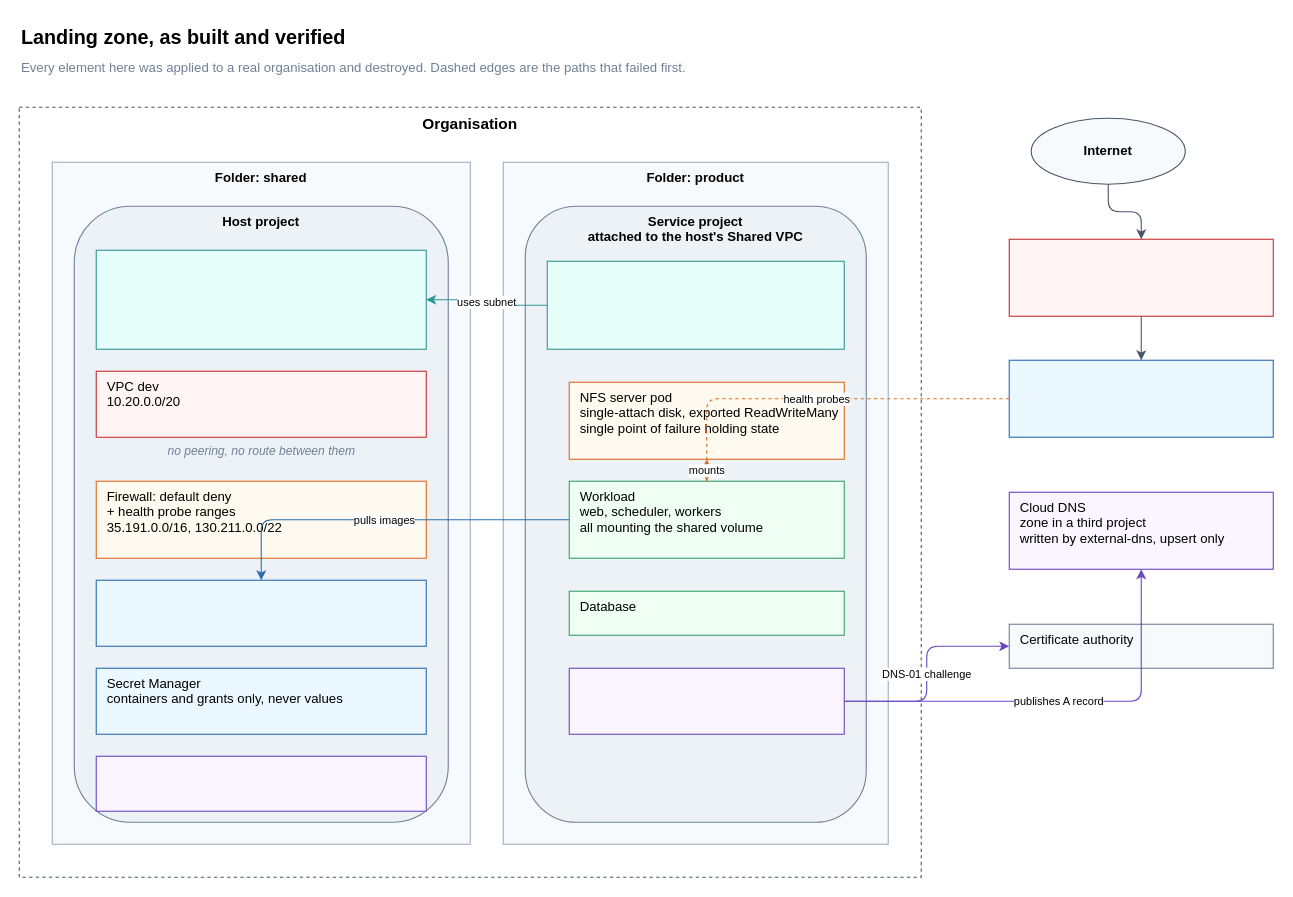
The diagram is 1293 pixels wide and 897 high, and some of its shapes have lost their labels. Each missing label, with the centre of its shape:
"Artifact Registry standard + pull-through cache" goes at [260,612].
"Cloud Armor managed rule sets, rate limit preview before enforcing" goes at [1140,277].
"external-dns · cert-manager one identity, no keys" goes at [706,700].
"GKE cluster Gateway API, Workload Identity runs on the host's subnet" goes at [695,304].
"Global load balancer from the Gateway resource TLS terminated here" goes at [1140,398].
"Org policies: no keys, no public IP, no public buckets, domain restriction" goes at [260,783].
"VPC prod 10.10.0.0/20 secondary: pods, services" goes at [260,299].
